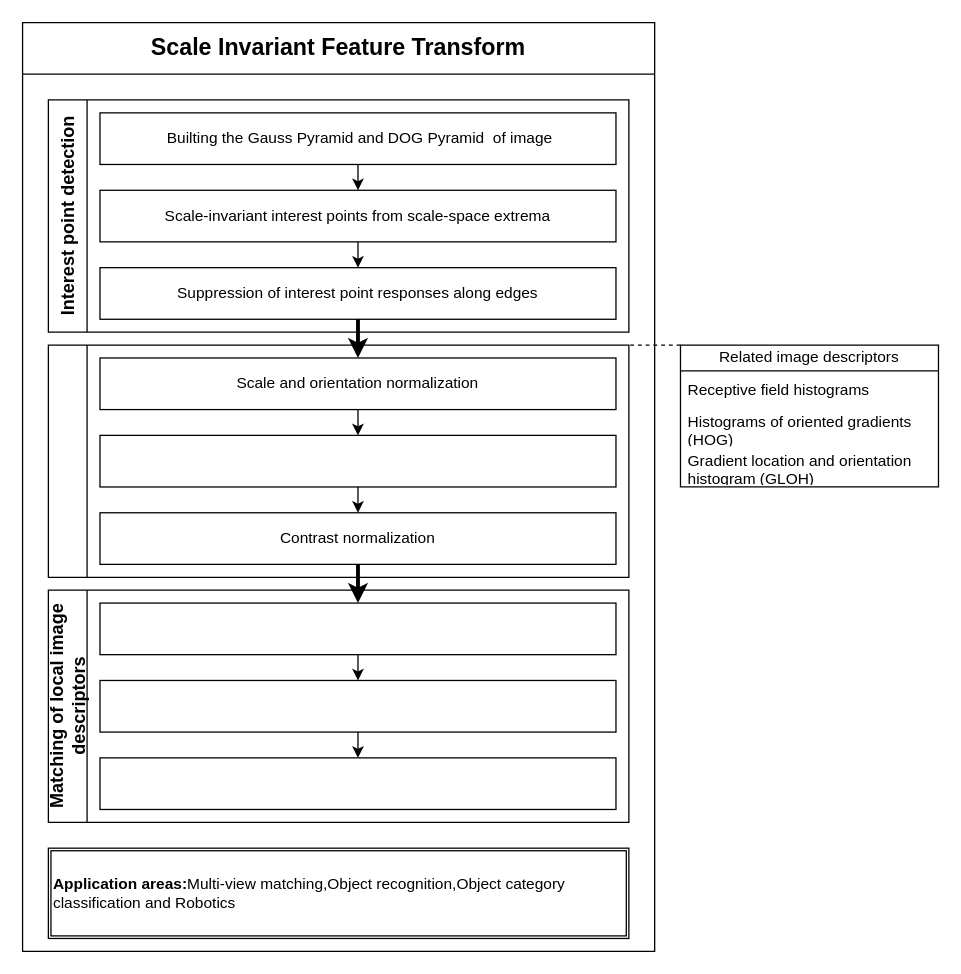
Image size: 961x974. Some labels were removed from this diagram. Each missing label, with the box of its shape:
Affine Hough transform based evidence accumulation for object models: (99, 757, 616, 809)
Best-bin-first approximation for selecting point matches: (99, 679, 616, 732)
Image descriptor: (47, 344, 629, 577)
Nearest neighbour matching of local image descriptors: (99, 602, 616, 655)
Weighted position-dependent histogram of local gradient directions: (99, 434, 616, 487)
